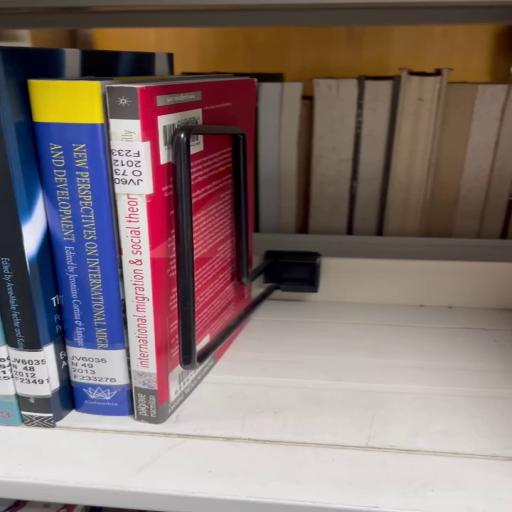reverse: (108, 76, 257, 425)
